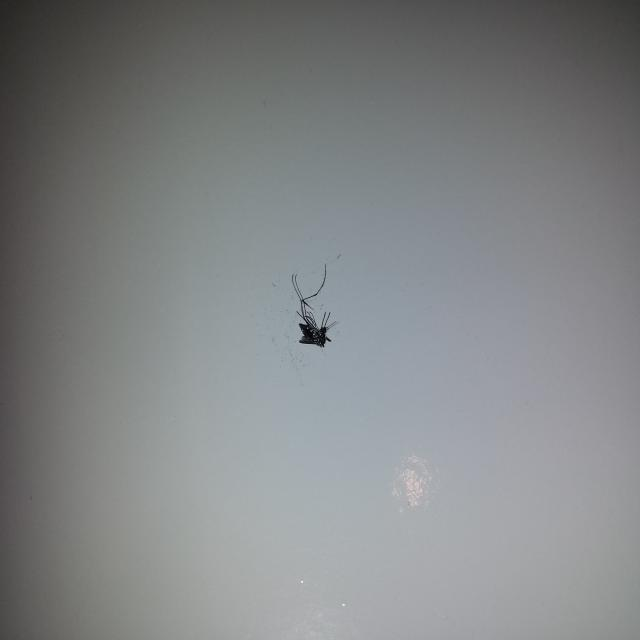albopictus: (281, 254, 345, 360)
